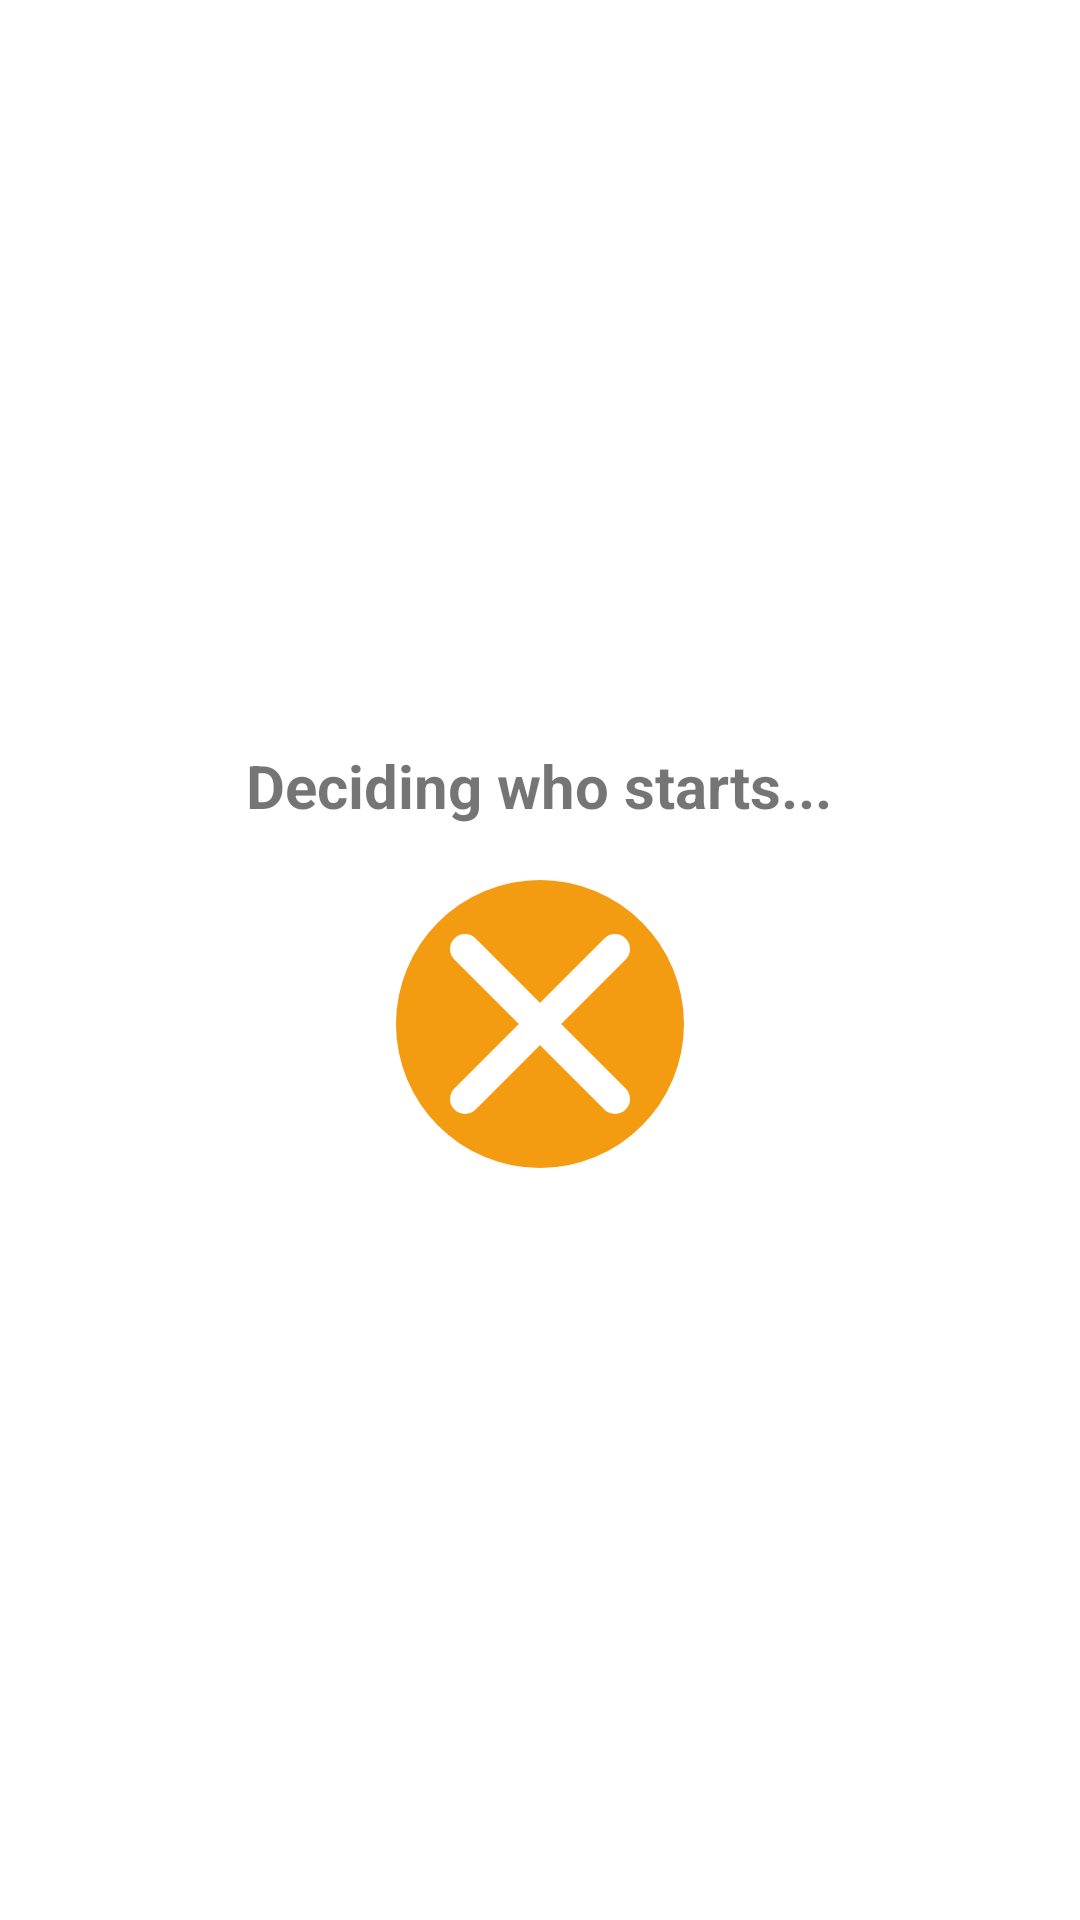

Screen size 1080 × 1920. Icon name, then its center in pixels as point (x, y):
coin: point (540, 1024)
